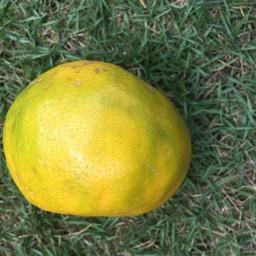Good_orange: (1, 60, 194, 220)
